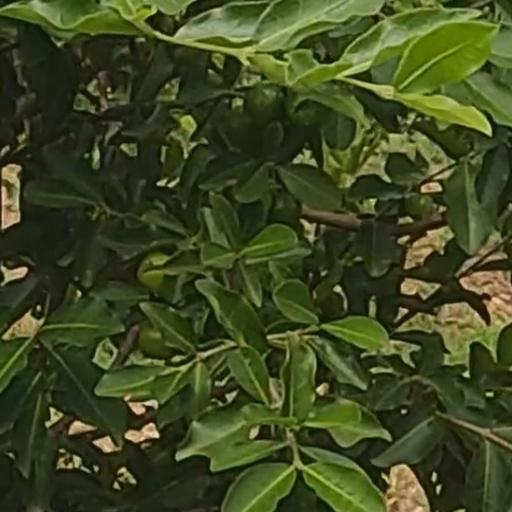acerola_verde: (137, 325, 175, 359)
